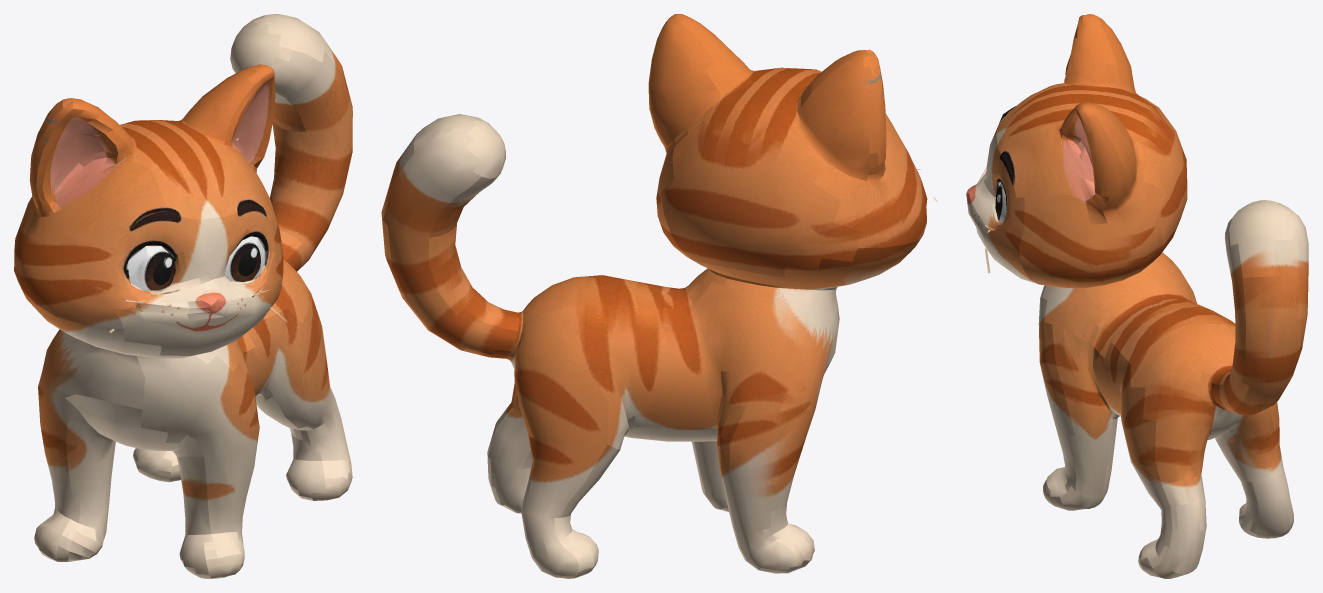
The model's file is kedi.glb.
3 views of the same model, side by side, from view 1: azimuth 30°, elevation 25°; view 2: azimuth 150°, elevation 25°; view 3: azimuth 270°, elevation 25° (orthographic). The views are drawn at different scales.
Parts seen in each view (by area): view 1: Mesh0; view 2: Mesh0; view 3: Mesh0.
Part boxes in pixels (<box>): Mesh0: <box>14,14,352,578</box>; Mesh0: <box>381,14,937,578</box>; Mesh0: <box>966,14,1308,578</box>.
Size of the model in its own units: 1.7 by 1.9 by 1.36.
1 material, 1 textured.
